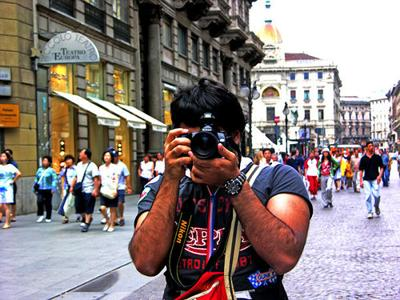person: (130, 81, 312, 299)
